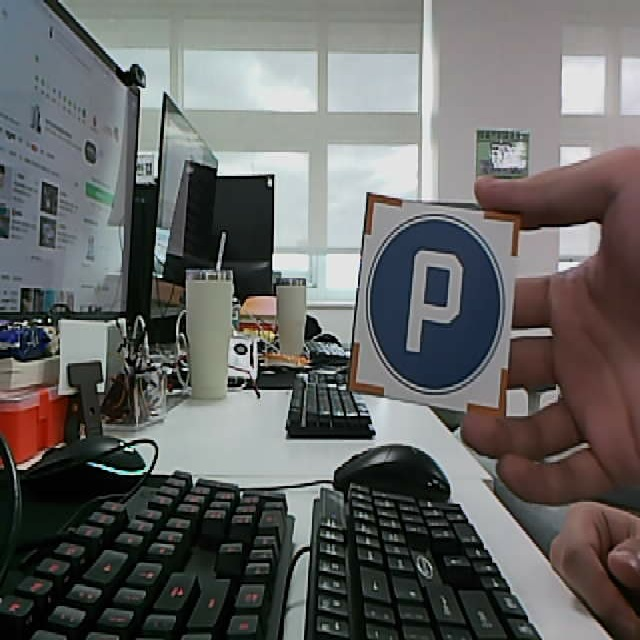parking: (350, 191, 519, 419)
